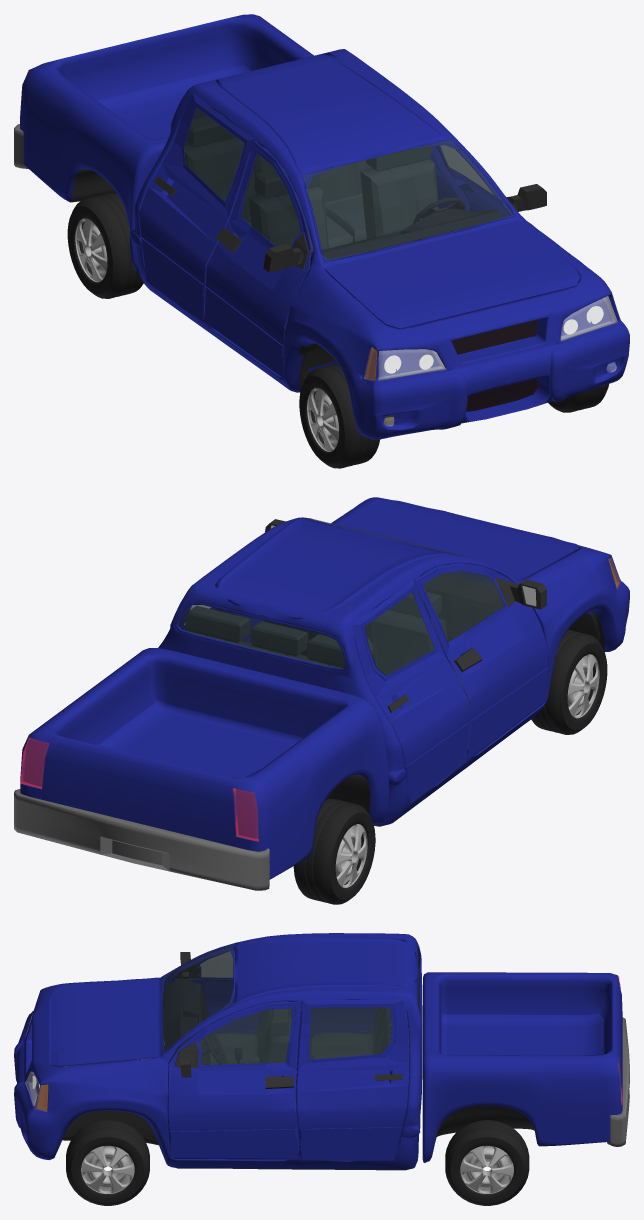
The model's file is ute.glb.
The picture shows the model from 3 angles, top to bottom: view 1: azimuth 30°, elevation 25°; view 2: azimuth 150°, elevation 25°; view 3: azimuth 270°, elevation 25°; orthographic projection. The views are drawn at different scales.
Parts seen in each view (by area): view 1: Body_Paint, Glass, Interior, Tyre (×3), Lamp_Head_Lens, Rim (×2), Interior_Dark, Grille_Black, Roof_Mirrors_Black, Body_Trim_Black, Lamp_Head_Reflector; view 2: Body_Paint, Glass, Rear_Bumper_Dark, Tyre (×2), Interior, Interior_Dark, Rim (×2), Lamp_Tail, Body_Trim_Black, Roof_Mirrors_Black; view 3: Body_Paint, Glass, Tyre (×2), Interior, Rim (×2), Body_Trim_Black, Interior_Dark, Roof_Mirrors_Black, Rear_Bumper_Dark, Interior_Steering.
Part boxes in pixels (<box>): Body_Paint: <box>20,14,629,440</box>; Glass: <box>184,108,514,261</box>; Interior: <box>184,116,438,252</box>; Tyre (×3): <box>67,193,608,468</box>; Lamp_Head_Lens: <box>378,296,617,380</box>; Rim (×2): <box>75,218,338,451</box>; Interior_Dark: <box>305,208,502,277</box>; Grille_Black: <box>451,320,537,411</box>; Roof_Mirrors_Black: <box>154,176,546,272</box>; Body_Trim_Black: <box>70,169,538,424</box>; Lamp_Head_Reflector: <box>384,306,603,373</box>; Body_Paint: <box>20,497,629,879</box>; Glass: <box>178,518,504,675</box>; Rear_Bumper_Dark: <box>14,789,269,890</box>; Tyre (×2): <box>293,629,607,904</box>; Interior: <box>185,591,467,745</box>; Interior_Dark: <box>365,572,505,665</box>; Rim (×2): <box>335,654,599,887</box>; Lamp_Tail: <box>20,738,258,841</box>; Body_Trim_Black: <box>326,611,604,826</box>; Roof_Mirrors_Black: <box>265,519,546,712</box>; Body_Paint: <box>14,933,622,1169</box>; Glass: <box>162,944,419,1064</box>; Tyre (×2): <box>66,1120,529,1205</box>; Interior: <box>210,1001,409,1064</box>; Rim (×2): <box>81,1145,513,1193</box>; Body_Trim_Black: <box>57,1076,538,1170</box>; Interior_Dark: <box>164,978,241,1064</box>; Roof_Mirrors_Black: <box>174,952,402,1088</box>; Rear_Bumper_Dark: <box>607,1017,629,1146</box>; Interior_Steering: <box>201,1032,227,1064</box>.
Size of the model in its own units: 2.23 by 1.81 by 5.23.
